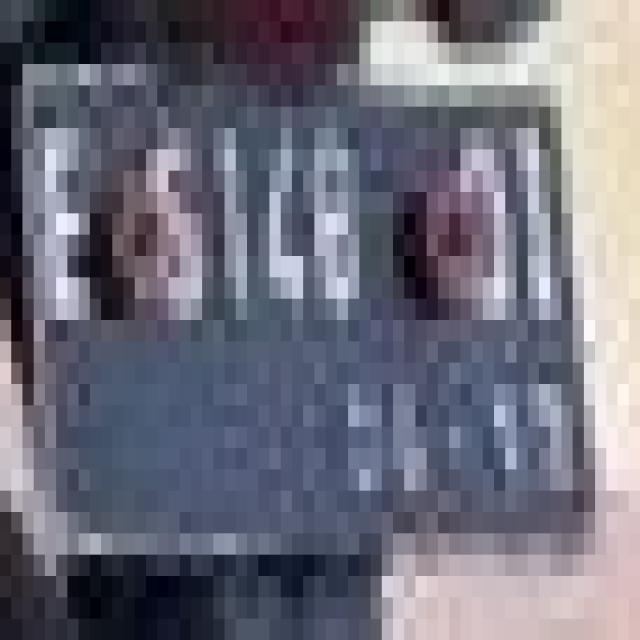plate: (0, 28, 595, 540)
